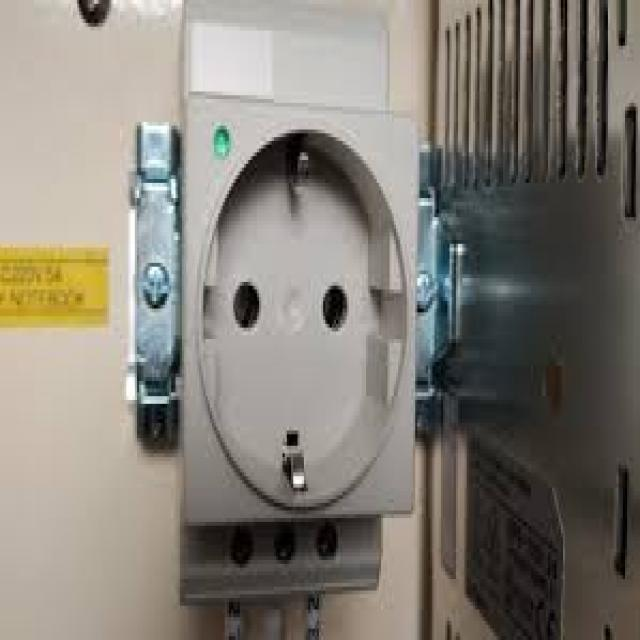typeb: (183, 81, 424, 533)
